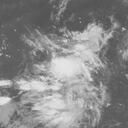cyclone: (31, 31, 101, 115)
